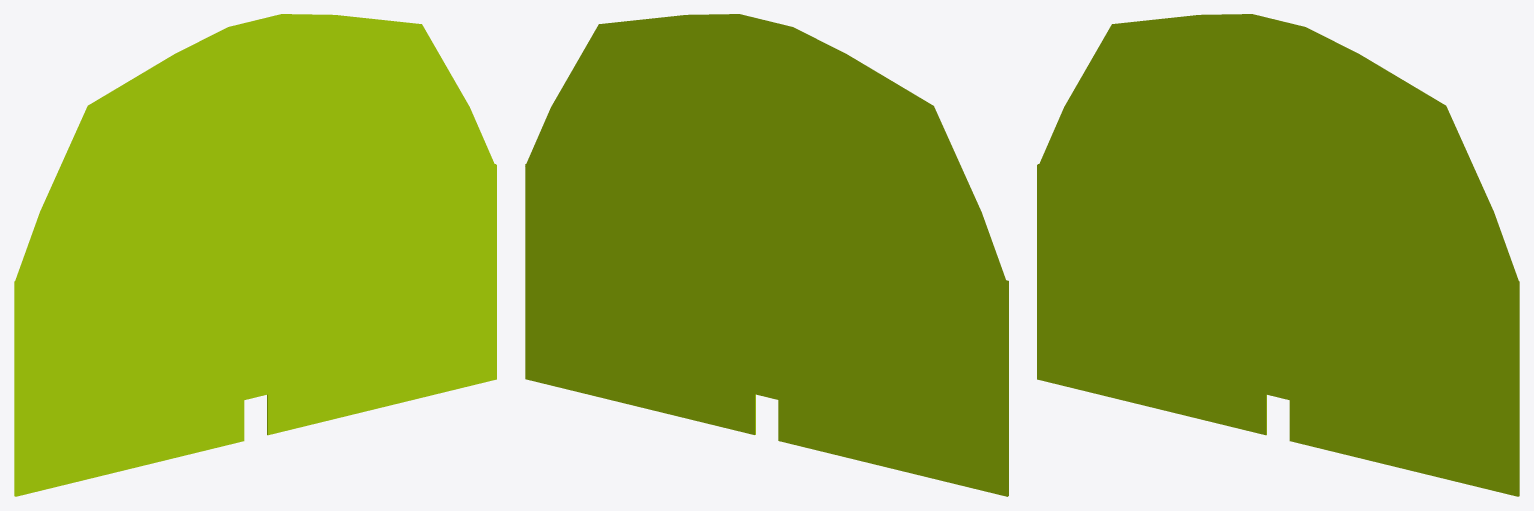
Rendered from Longhouse Main Door Wall.FBX.
The picture shows the model from 3 angles, left to right: view 1: azimuth 30°, elevation 25°; view 2: azimuth 150°, elevation 25°; view 3: azimuth 330°, elevation 25°; orthographic projection.
Visible parts, largest first — view 1: Box013, Box014; view 2: Box013, Box014; view 3: Box013, Box014.
Boxes of the visible parts, left/top/right/bottom form: Box013: left=14, top=164, right=496, bottom=496; Box014: left=15, top=14, right=494, bottom=280; Box013: left=525, top=164, right=1008, bottom=496; Box014: left=525, top=14, right=1007, bottom=284; Box013: left=1037, top=164, right=1519, bottom=496; Box014: left=1039, top=14, right=1518, bottom=280.
Size of the model in its own units: 1137 by 941 by 4.95.
